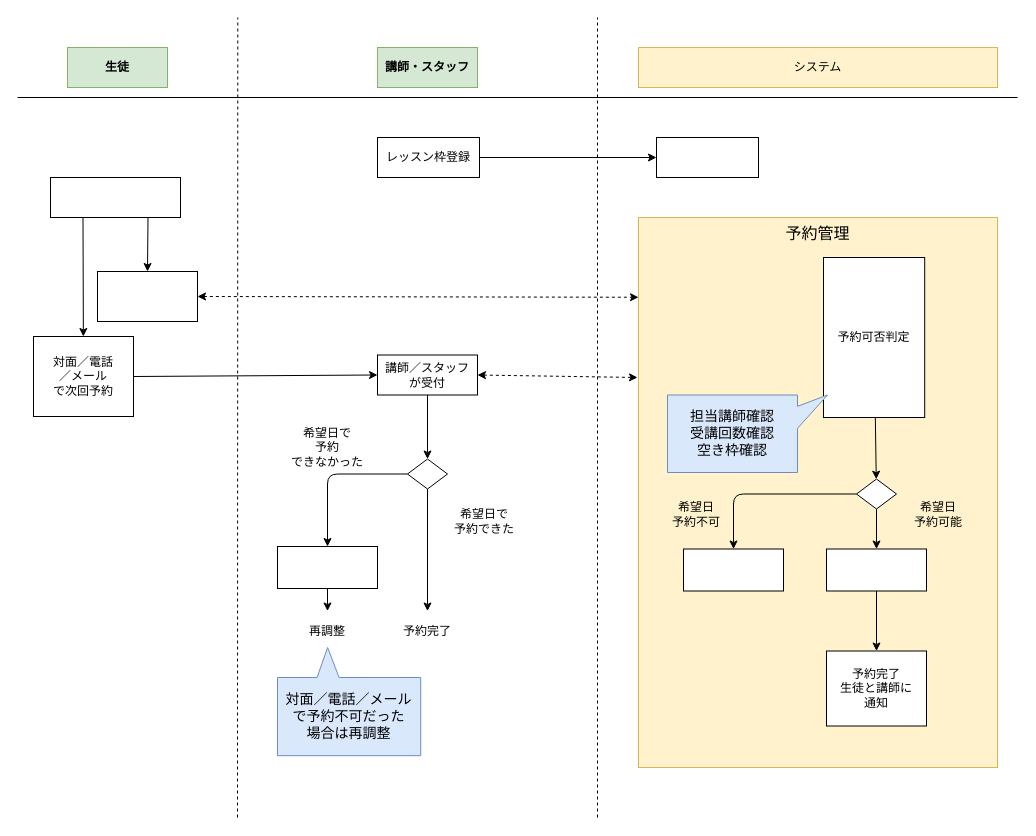
The diagram is 1036 pixels wide and 836 high, and some of its shapes have lost their labels. The box of each missing label's shape, as (x1, y1, x2, y2) in pixels:
アプリで 次回予約: (96, 270, 198, 322)
エラー表示: (682, 548, 784, 591)
レッスン受講: (50, 176, 180, 218)
レッスン枠 登録・公開: (656, 136, 758, 178)
予約登録: (826, 548, 926, 591)
別候補日を 生徒に連絡: (276, 546, 378, 588)
